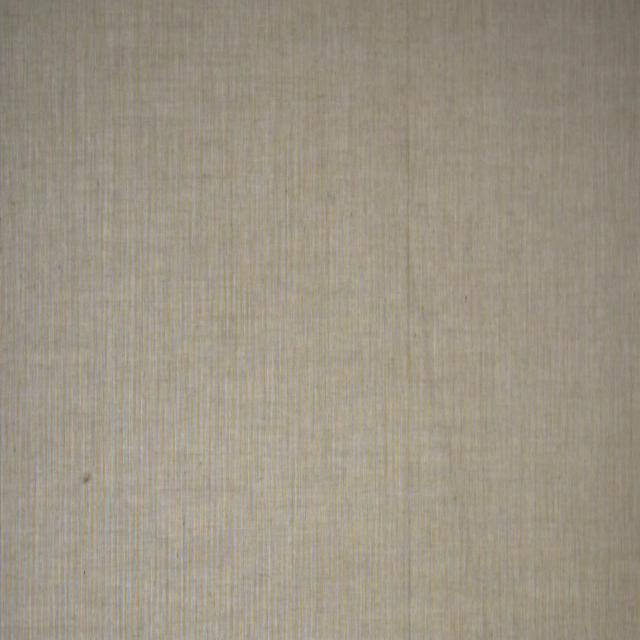dirty: (82, 471, 94, 486)
